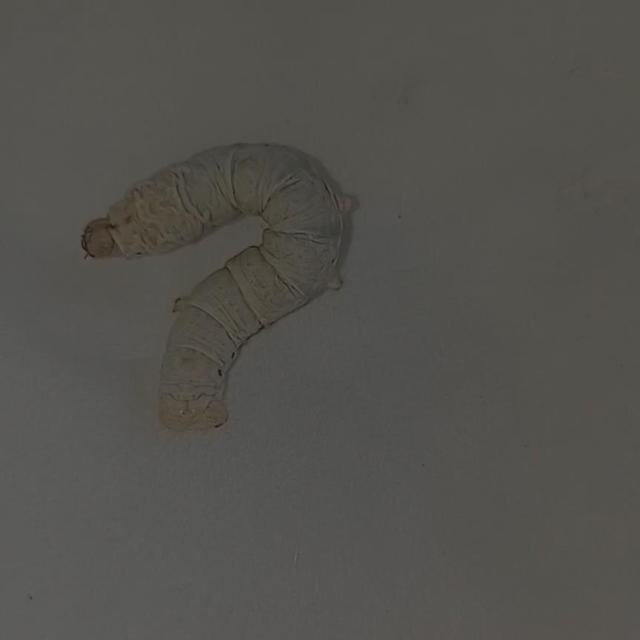Healthy: (73, 134, 367, 438)
